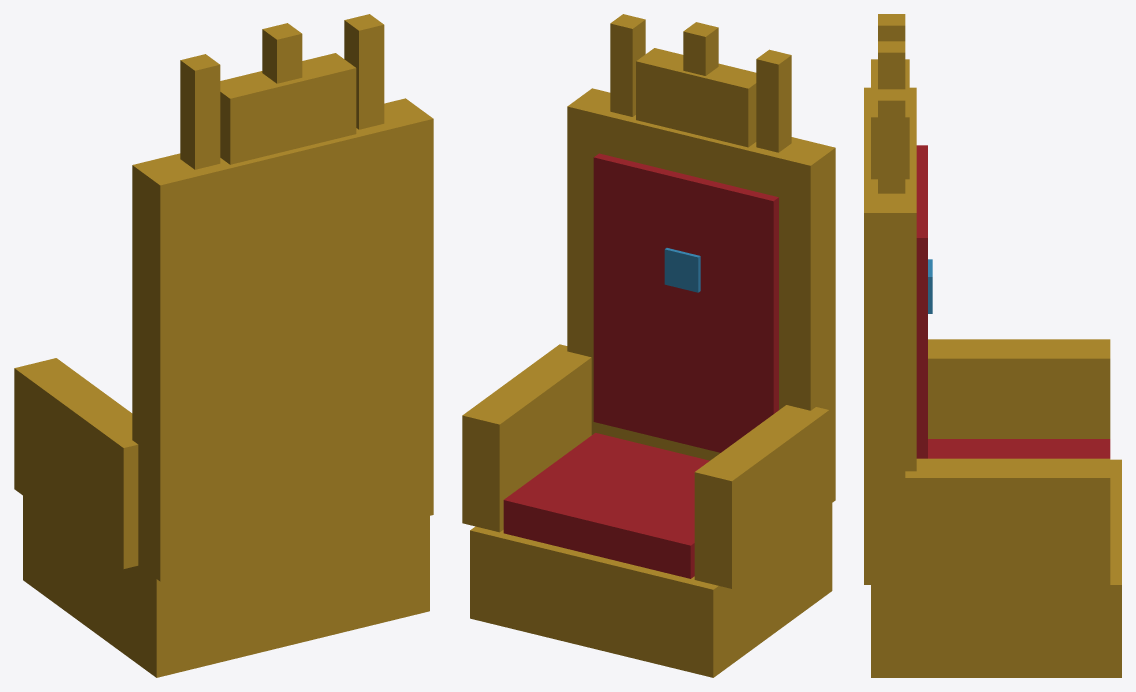
Rendered from ld-throne.glb.
3 views of the same model, side by side, from view 1: azimuth 30°, elevation 25°; view 2: azimuth 150°, elevation 25°; view 3: azimuth 270°, elevation 25° (orthographic). The views are drawn at different scales.
Visible parts, largest first — view 1: box-prop; view 2: box-prop; view 3: box-prop.
Boxes of the visible parts, bbox=[...] form: box-prop: bbox=[14, 14, 433, 677]; box-prop: bbox=[462, 14, 835, 677]; box-prop: bbox=[864, 14, 1121, 677].
Bounding box in the file's own units: 1.44 × 2.75 × 1.13.
